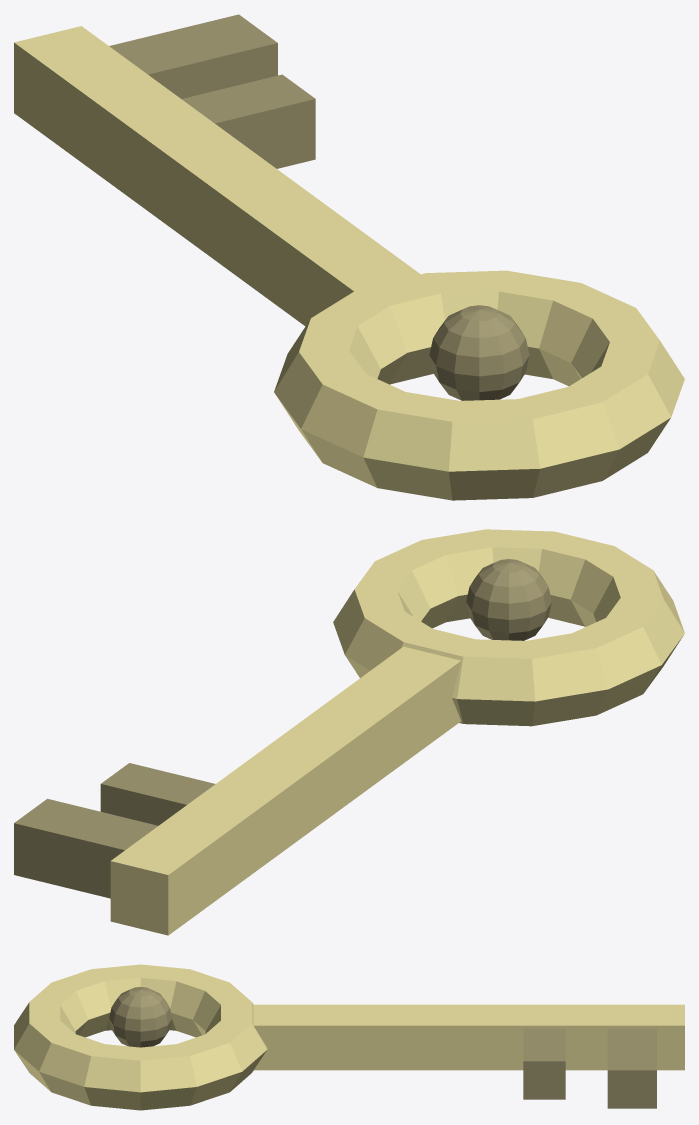
The model's file is backrooms_held.gltf.
3 renders of one model, top to bottom at view 1: azimuth 30°, elevation 25°; view 2: azimuth 150°, elevation 25°; view 3: azimuth 270°, elevation 25°, orthographic. The views are drawn at different scales.
Visible parts, largest first — view 1: keys_backrooms_held; view 2: keys_backrooms_held; view 3: keys_backrooms_held.
Part boxes in pixels (x1,y1,x2,y2): keys_backrooms_held: [14, 14, 684, 500]; keys_backrooms_held: [14, 529, 684, 935]; keys_backrooms_held: [14, 964, 684, 1110].
Bounding box in the file's own units: 0.074 × 0.0228 × 0.1911.
